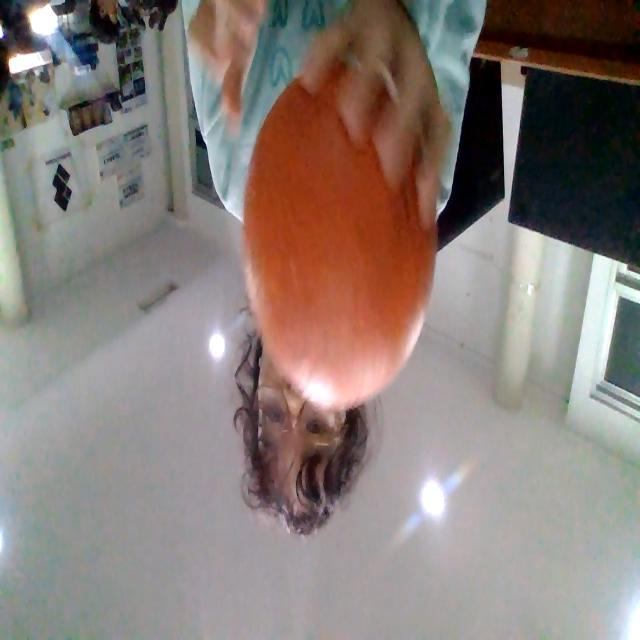ball: (246, 78, 427, 393)
